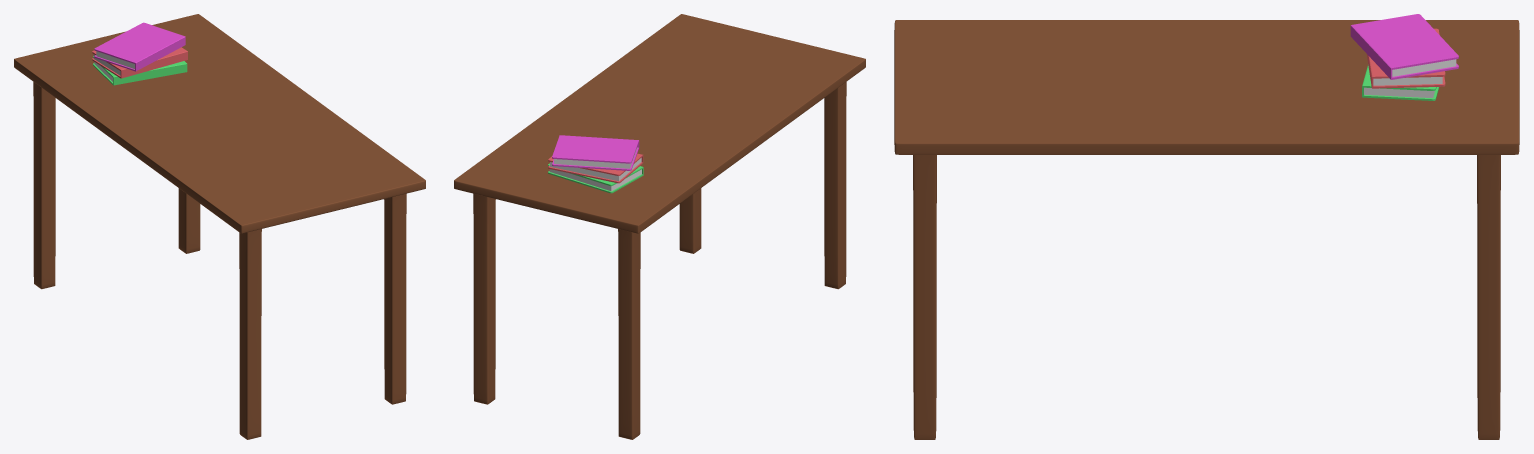
Rendered from desk.glb.
The picture shows the model from 3 angles, left to right: view 1: azimuth 30°, elevation 25°; view 2: azimuth 150°, elevation 25°; view 3: azimuth 270°, elevation 25°; orthographic projection. The views are drawn at different scales.
Parts seen in each view (by area): view 1: desk, book.001, book.002, book.003; view 2: desk, book.001, book.002, book.003; view 3: desk, book.001, book.002, book.003.
Boxes of the visible parts, x1,y1,x2,y2 form: desk: [14, 14, 425, 439]; book.001: [94, 22, 185, 71]; book.002: [92, 47, 187, 78]; book.003: [93, 56, 187, 85]; desk: [454, 14, 865, 439]; book.001: [552, 135, 639, 170]; book.002: [548, 153, 643, 183]; book.003: [548, 163, 643, 193]; desk: [894, 20, 1519, 439]; book.001: [1350, 14, 1458, 79]; book.002: [1366, 28, 1445, 88]; book.003: [1362, 64, 1439, 100].
Bounding box in the file's own units: 1.62 × 2.07 × 3.45.
